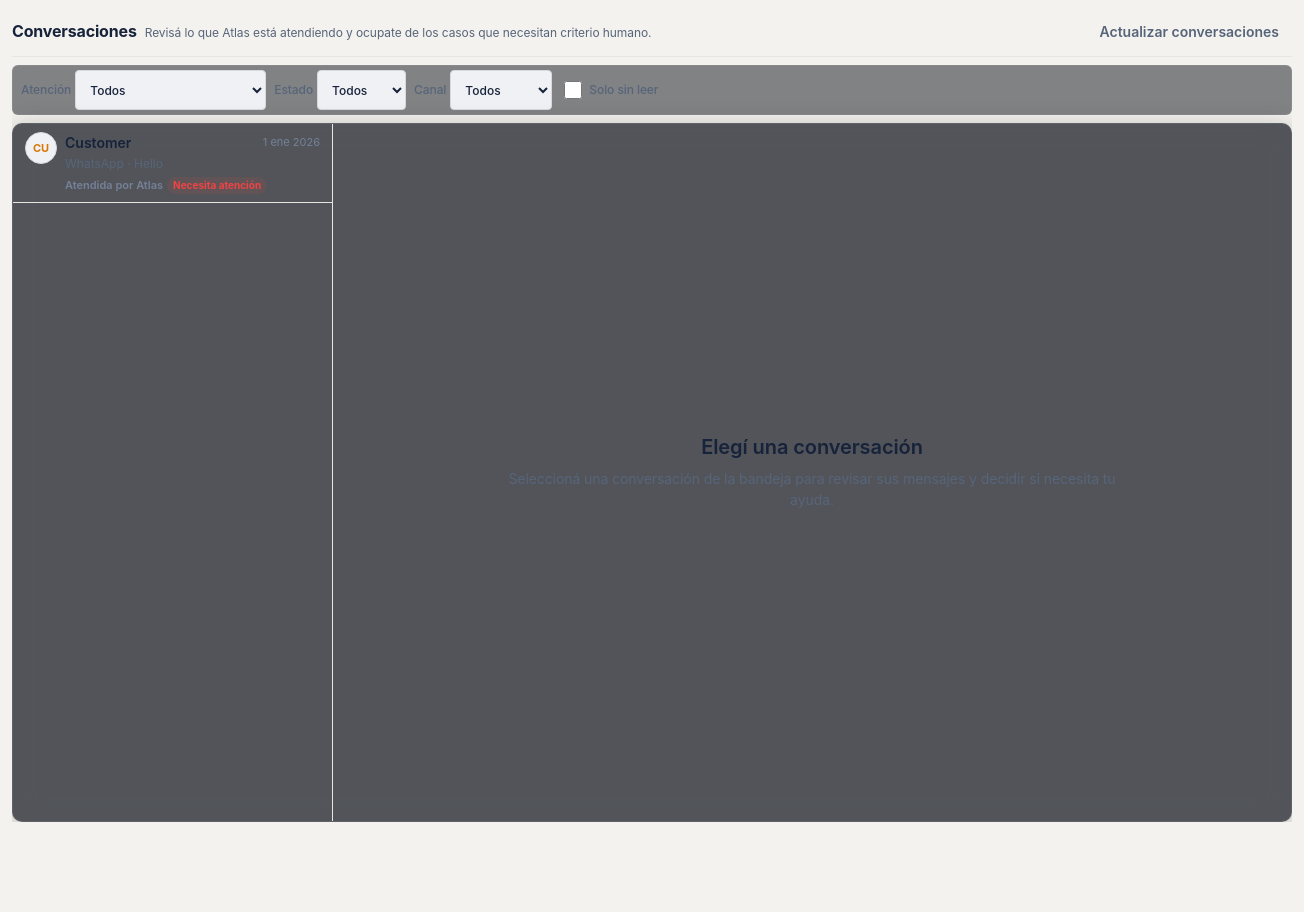
Test: explains that attention is active and offers takeover without a resume action
Click the text "Customer".
click(98, 142)  # box x1=65 y1=132 x2=131 y2=153
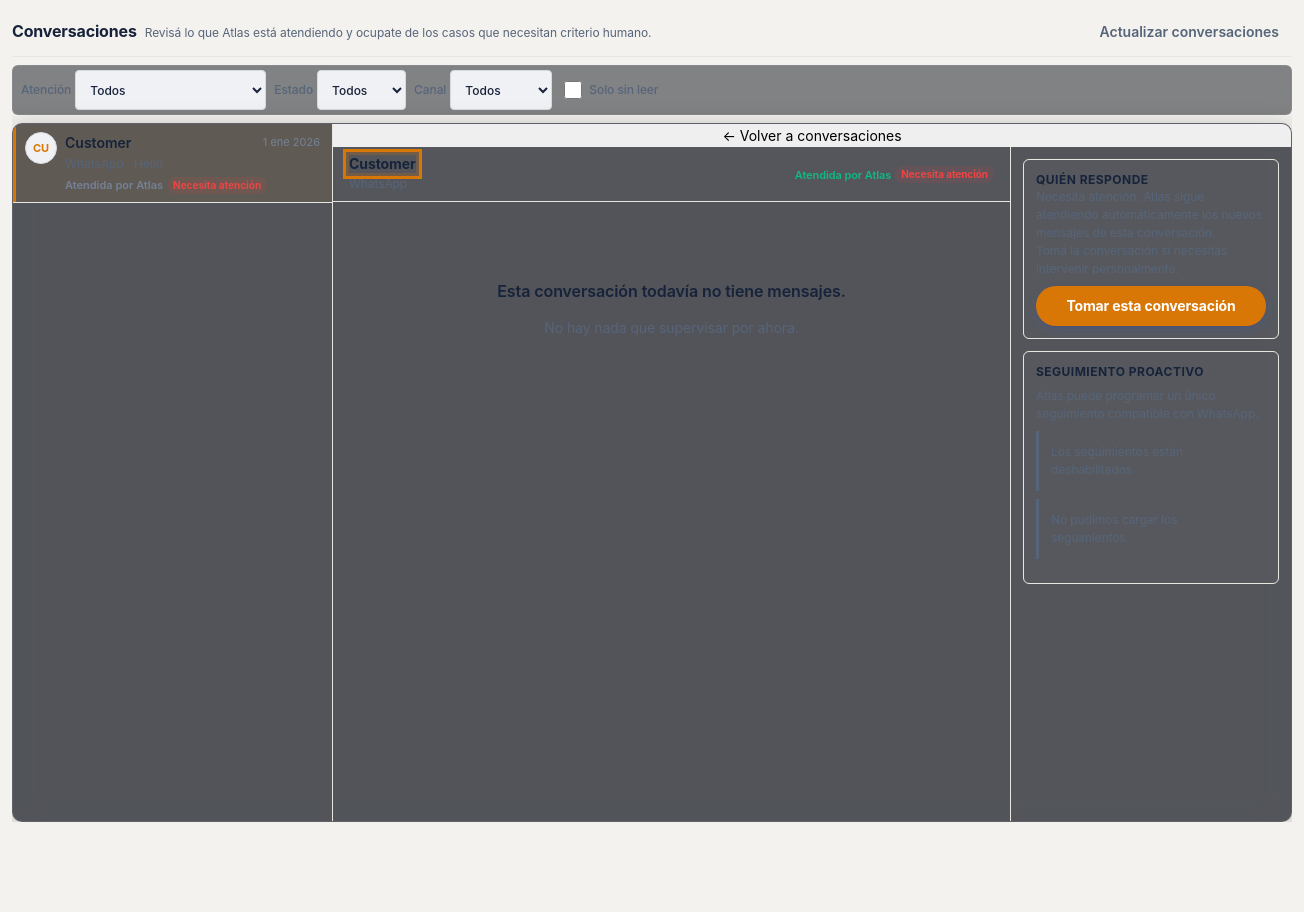
Check: the text "Necesita atención. Atlas sigue atendiendo automáticamente" is shown, box x1=1036 y1=189 x2=1262 y2=240
Check: the text "Tomá la conversación si necesitás intervenir personalmente." is shown, box x1=1036 y1=243 x2=1227 y2=276
Check: the button "Tomar esta conversación" is shown, box x1=1036 y1=286 x2=1266 y2=326
